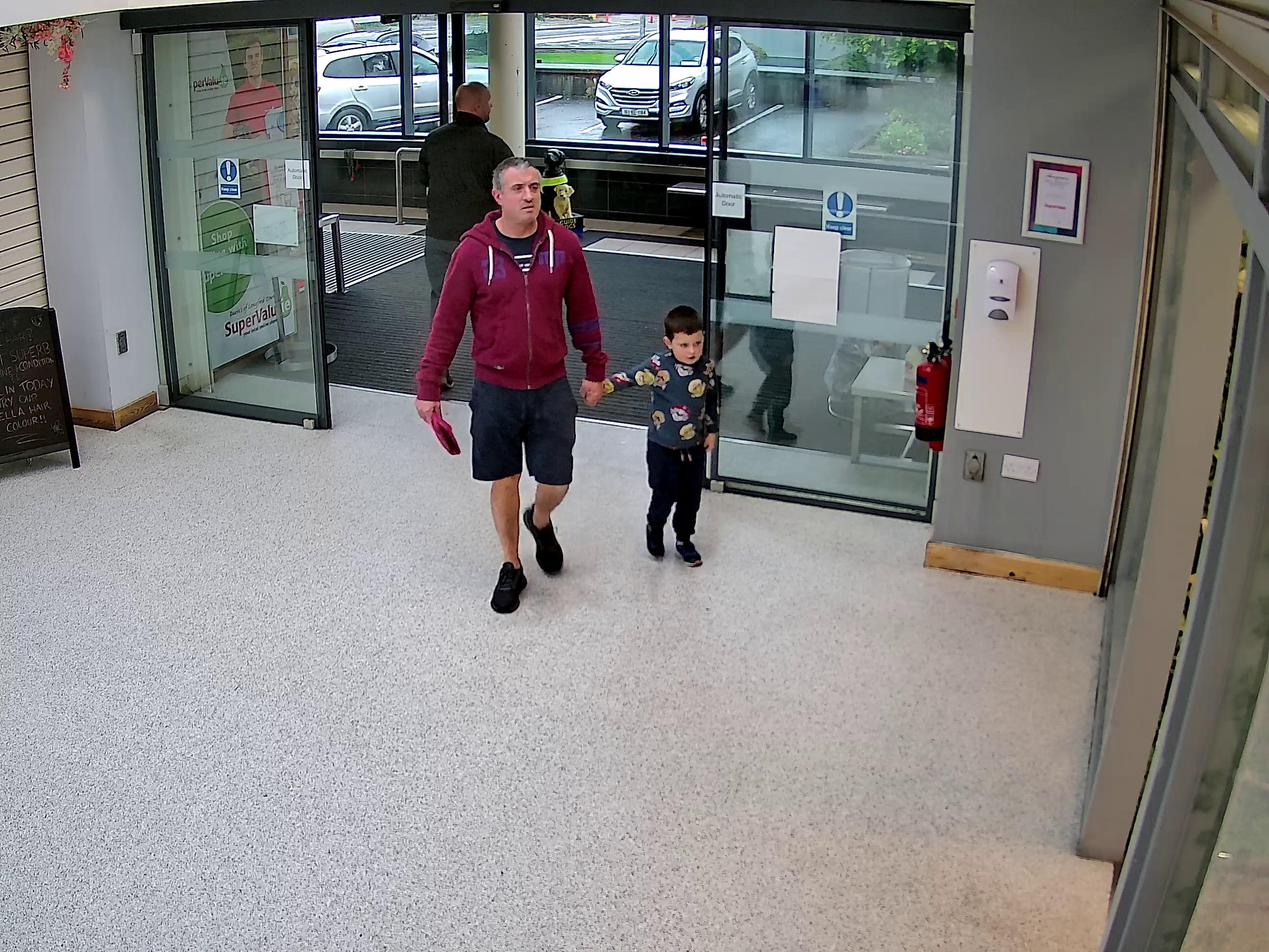empty-shopping-bags: (423, 402, 461, 459)
person: (416, 156, 608, 613)
person-with-empty-basket-trolly: (416, 155, 608, 613)
